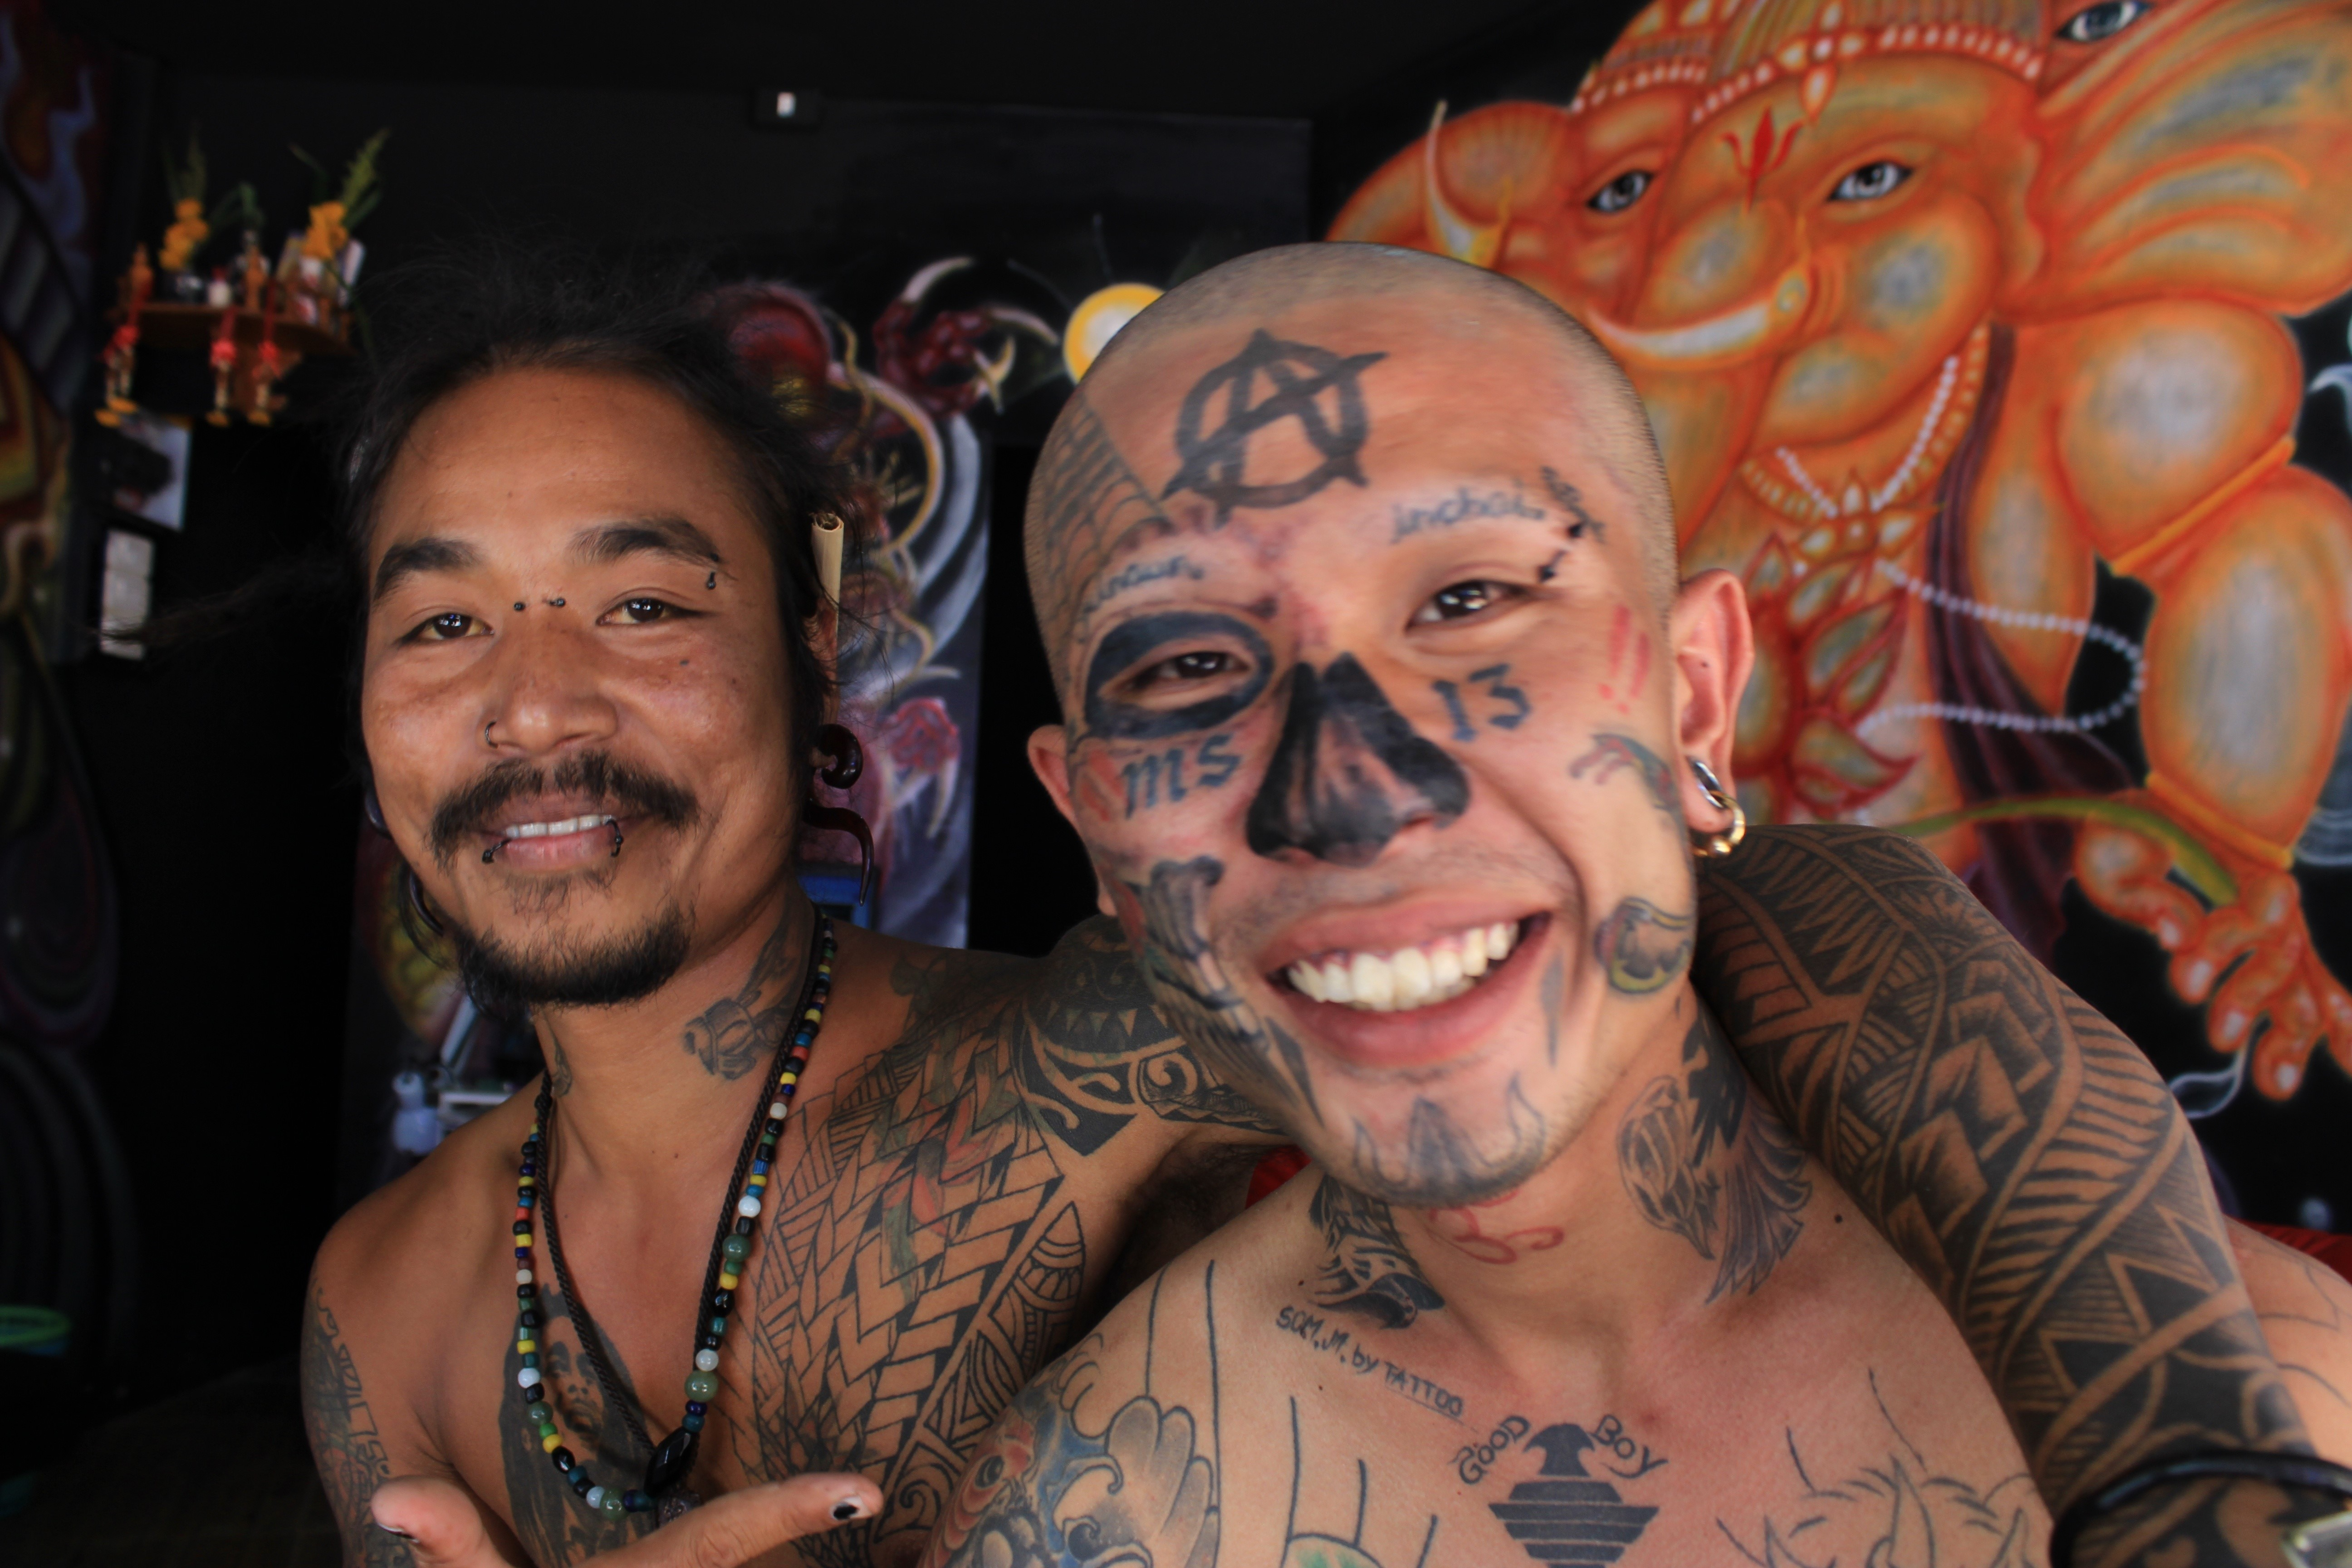face_no_mask: (1013, 257, 1753, 1225), (352, 343, 849, 1009)
